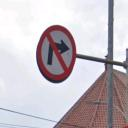NoVirarDireita: (34, 23, 78, 86)
